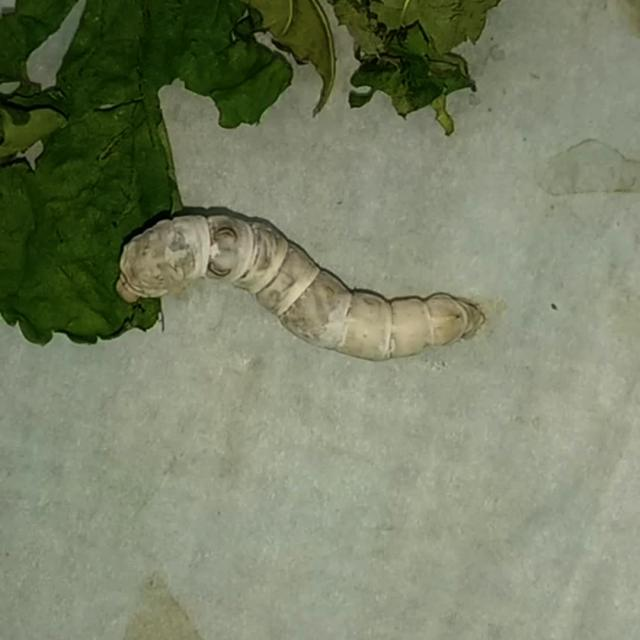Grasserie: (107, 168, 513, 413)
